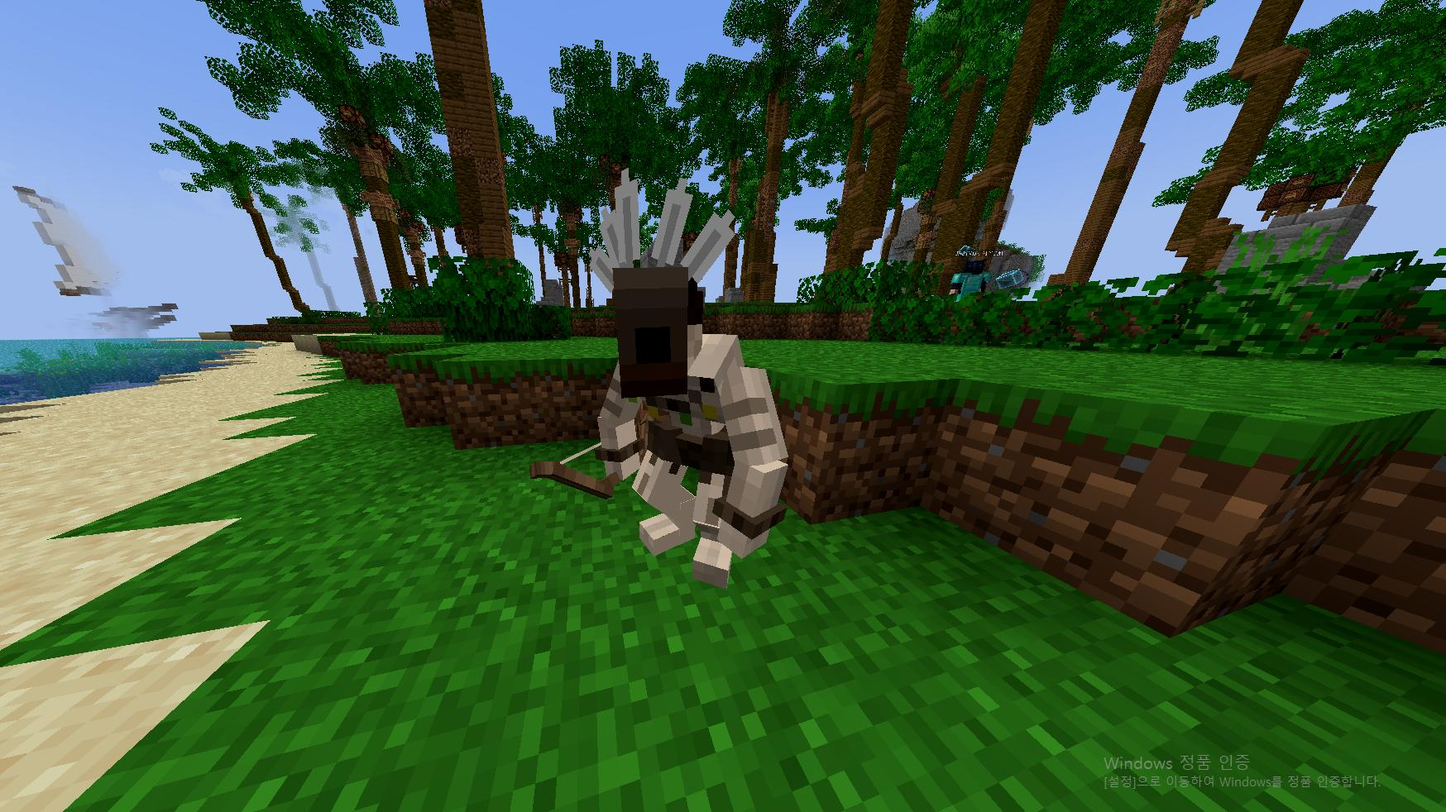bow_indian: (498, 167, 855, 636)
